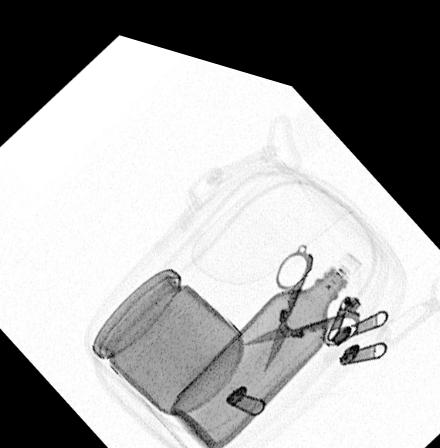Scissors: (242, 230, 364, 357)
